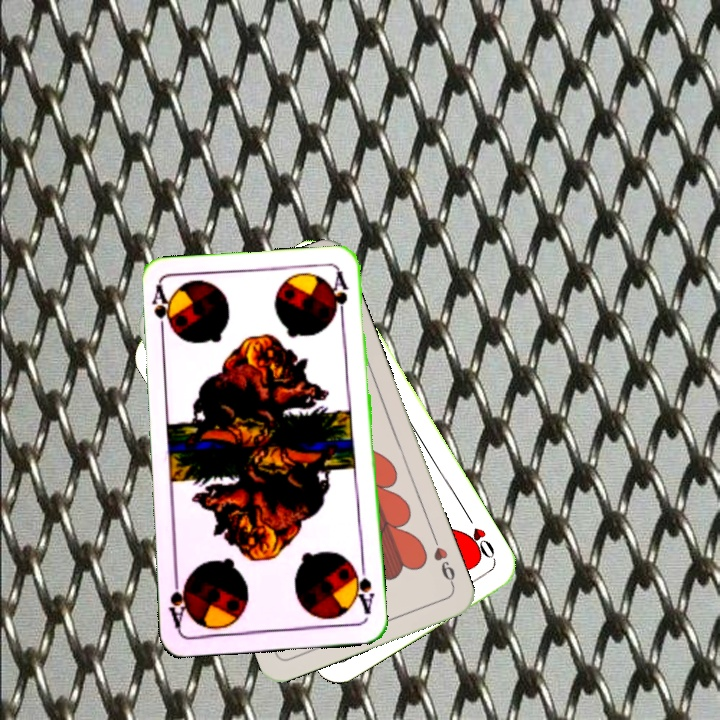H9: (429, 533, 458, 590)
HO: (460, 509, 498, 563)
SA: (348, 559, 377, 617), (147, 282, 173, 341)
